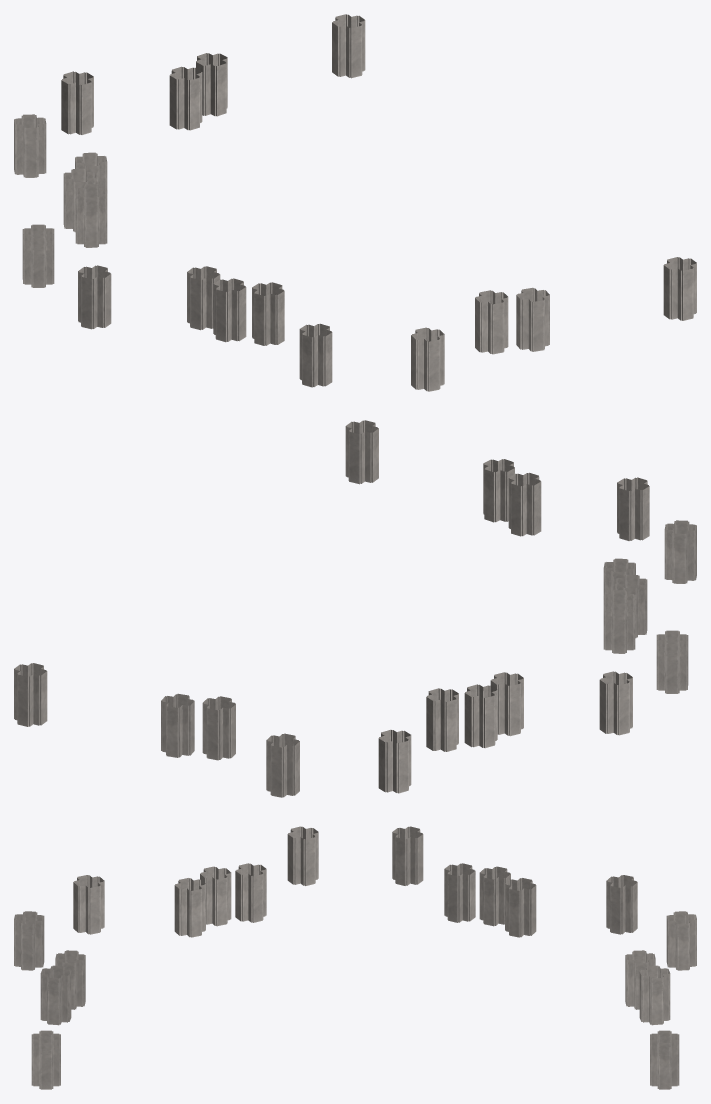
The model's file is Ambulatory_Outer_Post_A_2m.fbx.
3 renders of one model, top to bottom at view 1: azimuth 30°, elevation 25°; view 2: azimuth 150°, elevation 25°; view 3: azimuth 270°, elevation 25°, orthographic. The views are drawn at different scales.
Parts seen in each view (by area): view 1: Ambulatory_Outer_Post_A_2m; view 2: Ambulatory_Outer_Post_A_2m; view 3: Ambulatory_Outer_Post_A_2m.
Boxes of the visible parts, <box> form: Ambulatory_Outer_Post_A_2m: <box>14,14,696,391</box>; Ambulatory_Outer_Post_A_2m: <box>14,420,696,797</box>; Ambulatory_Outer_Post_A_2m: <box>14,826,696,1089</box>.
Bounding box in the file's own units: 19.89 × 26.51 × 2.
